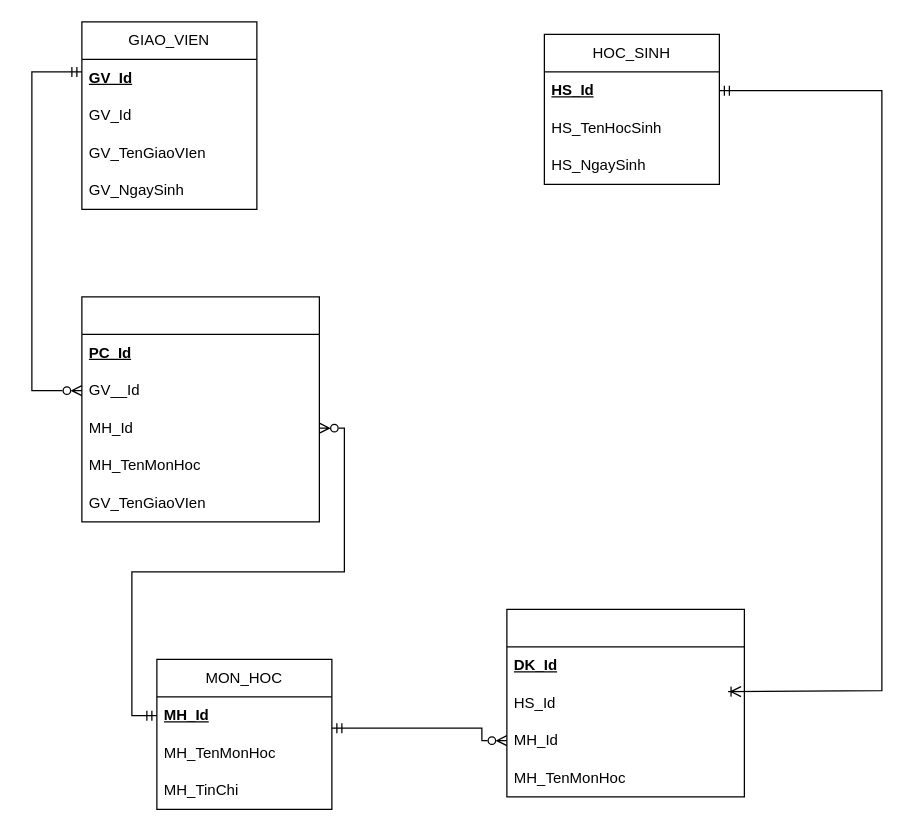
Image size: 915x831. Some labels were removed from this diagram. The shapes that lost their labels are listed below. From the top down, each one's box as (x1, y1, x2, y2) in pixels, then its label:
(81, 296, 319, 522): PHAN_CONG_GIANG_DAY
(506, 608, 744, 797): DANG_KY_MON_HOC
